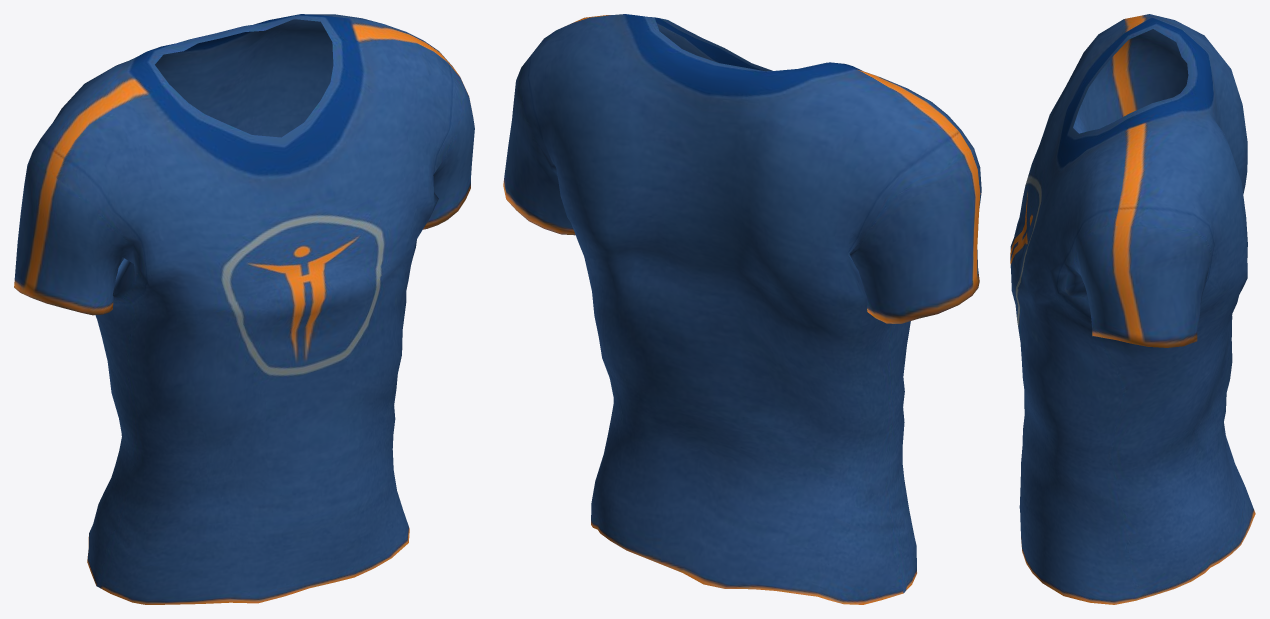
File: top_graphic_tee.gltf
3 views of the same model, side by side, from view 1: azimuth 30°, elevation 25°; view 2: azimuth 150°, elevation 25°; view 3: azimuth 270°, elevation 25° (orthographic). The views are drawn at different scales.
Visible parts, largest first — view 1: top_graphic_tee; view 2: top_graphic_tee; view 3: top_graphic_tee.
Boxes of the visible parts, x1,y1,x2,y2 form: top_graphic_tee: [14, 14, 474, 604]; top_graphic_tee: [503, 14, 981, 604]; top_graphic_tee: [1010, 14, 1255, 604].
Bounding box in the file's own units: 0.4956 × 0.538 × 0.249.
Materials: 1 (1 with a texture image).
